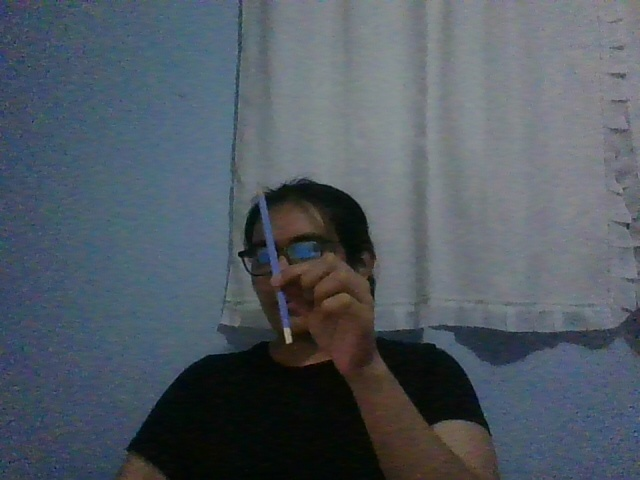lapiz: (257, 182, 294, 346)
